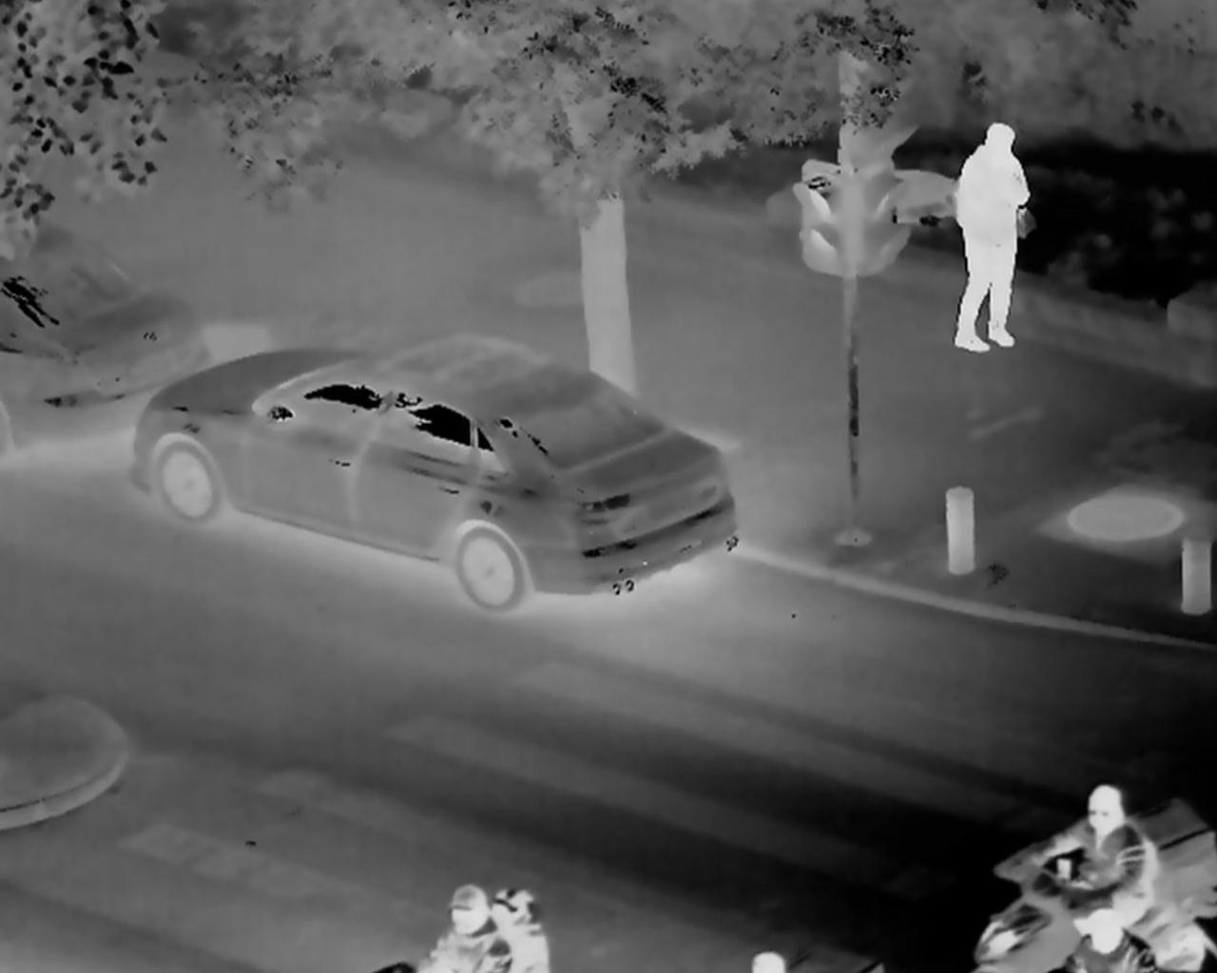person: (939, 116, 1035, 357), (1038, 782, 1149, 973), (487, 883, 562, 973), (422, 878, 489, 973)
